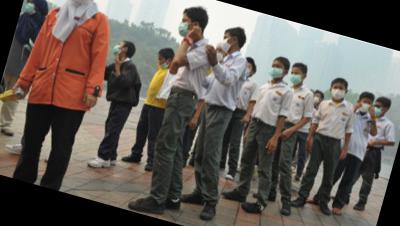mask_weared_incorrect: (155, 55, 169, 70)
with_mask: (177, 16, 195, 39), (329, 82, 347, 102), (268, 62, 286, 81), (287, 69, 304, 88), (219, 33, 234, 54), (357, 98, 373, 114), (211, 47, 226, 64), (371, 102, 385, 119), (112, 41, 125, 59), (312, 93, 321, 104)
